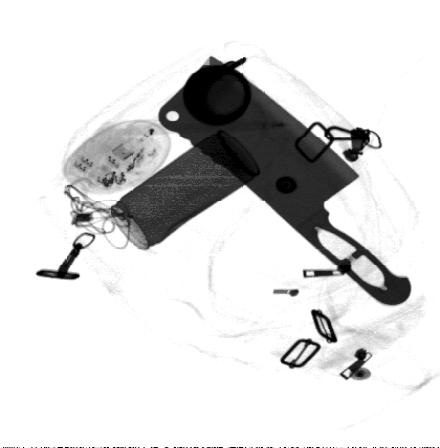Knife: (157, 54, 413, 306)
